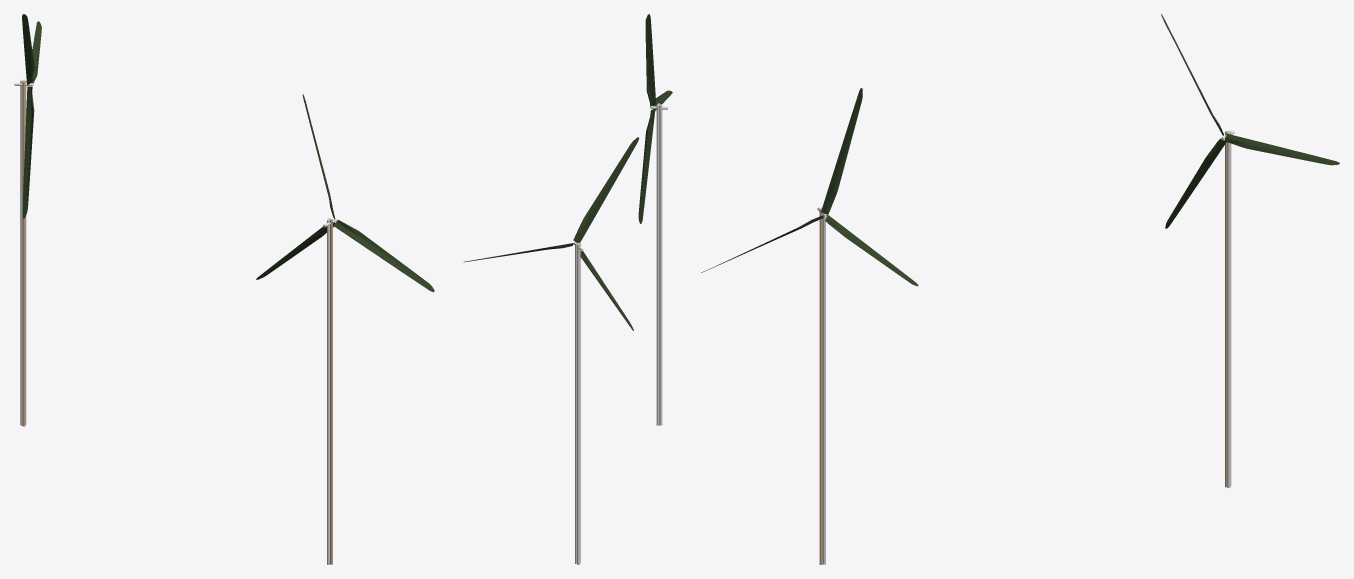
File: Lake_Valley_Optimized.fbx_turbines.fbx
The picture shows the model from 3 angles, left to right: view 1: azimuth 30°, elevation 25°; view 2: azimuth 150°, elevation 25°; view 3: azimuth 270°, elevation 25°; orthographic projection. The views are drawn at different scales.
Visible parts, largest first — view 1: Cylinder.005, Cylinder.022, Cylinder.004, Cylinder.021, Plane.007, Plane.009, Plane.011, Plane.008; view 2: Cylinder.018, Cylinder.021, Cylinder.004, Plane.011, Plane.008, Plane.003, Cylinder.001, Plane.009, Cylinder.005; view 3: Cylinder.022, Cylinder.001, Cylinder.018, Plane.003, Cylinder.005, Plane.010, Plane.009.
Boxes of the visible parts, x1,y1,x2,y2 form: Cylinder.005: (22, 81, 25, 426); Cylinder.022: (330, 219, 332, 564); Cylinder.004: (20, 80, 23, 425); Cylinder.021: (327, 219, 329, 564); Plane.007: (333, 219, 434, 292); Plane.009: (22, 86, 34, 218); Plane.011: (22, 14, 34, 85); Plane.008: (256, 222, 334, 279); Cylinder.018: (656, 104, 659, 425); Cylinder.021: (659, 104, 662, 425); Cylinder.004: (577, 243, 579, 564); Plane.011: (573, 137, 639, 242); Plane.008: (638, 109, 655, 223); Plane.003: (645, 14, 656, 106); Cylinder.001: (575, 243, 577, 563); Plane.009: (580, 251, 633, 330); Cylinder.005: (578, 242, 580, 563); Cylinder.022: (819, 208, 822, 564); Cylinder.001: (1227, 132, 1230, 488); Cylinder.018: (822, 216, 825, 564); Plane.003: (821, 88, 862, 214); Cylinder.005: (1225, 131, 1227, 487); Plane.010: (1225, 133, 1339, 165); Plane.009: (1165, 138, 1226, 228).
Bounding box in the file's own units: 2817 × 6598 × 7988.
